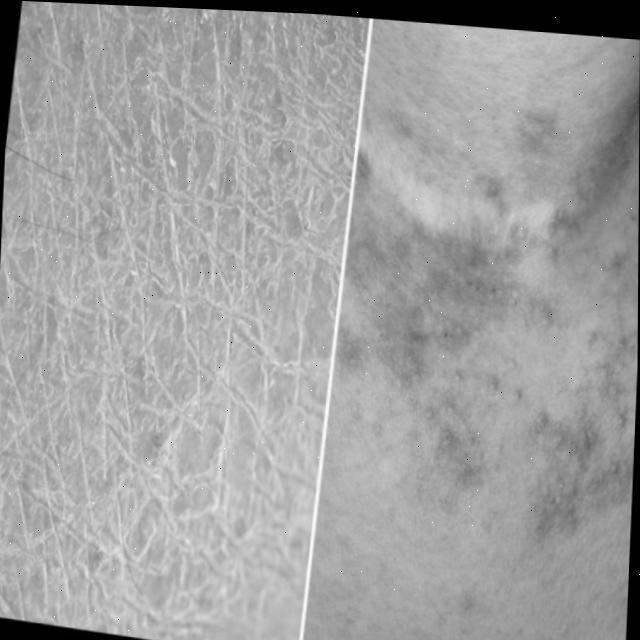Eczema: (330, 88, 639, 525)
